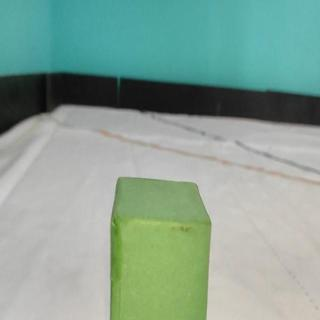greenbox: (111, 176, 213, 320)
